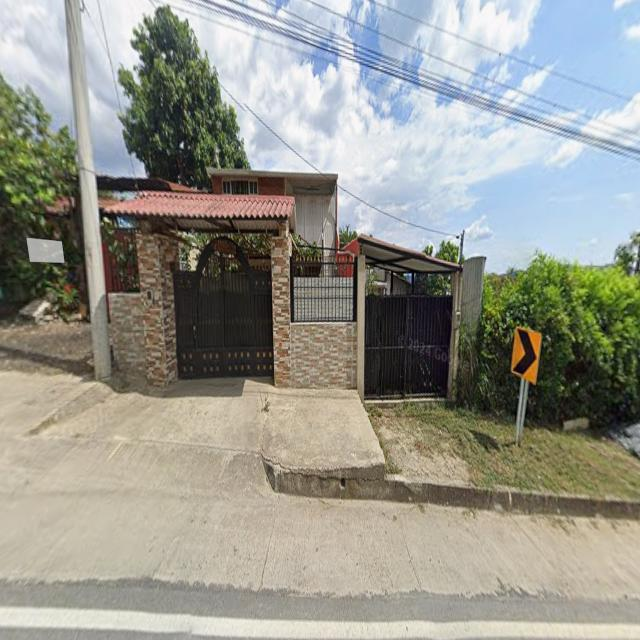Casa: (106, 172, 462, 398)
Poste: (65, 0, 111, 379)
